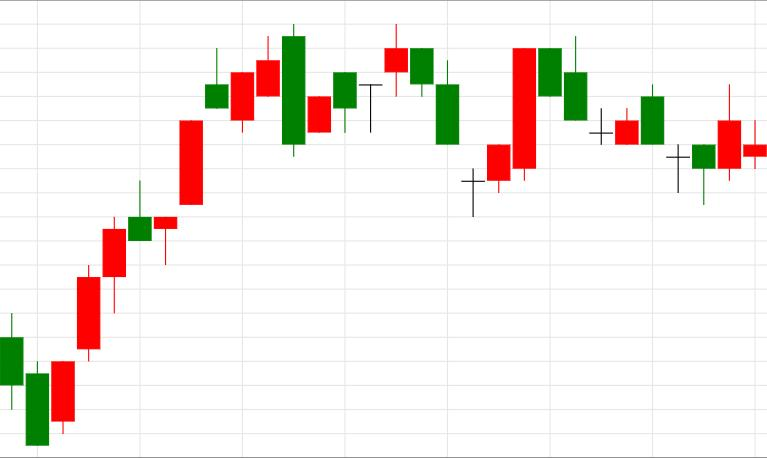bearish_engulfing_fall: (51, 24, 305, 434)
shooting_star_fall: (51, 48, 229, 433)
